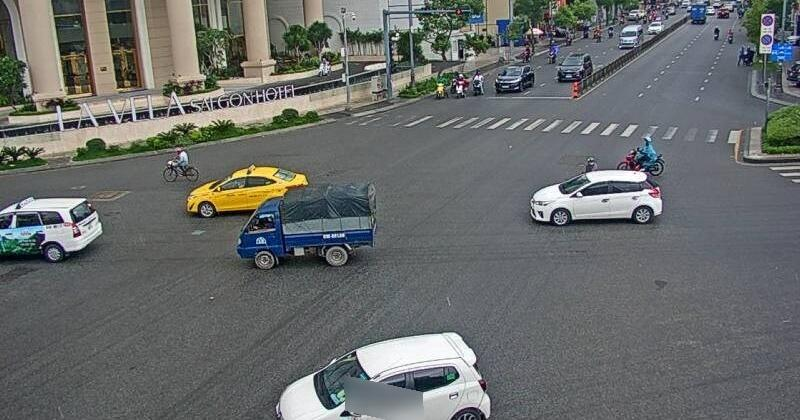xe dap: (165, 147, 194, 181)
xe hoi: (266, 331, 503, 420), (184, 161, 311, 221), (0, 192, 104, 262)
xe may: (526, 169, 662, 223), (616, 134, 665, 175)
xe tai: (237, 181, 379, 269)
